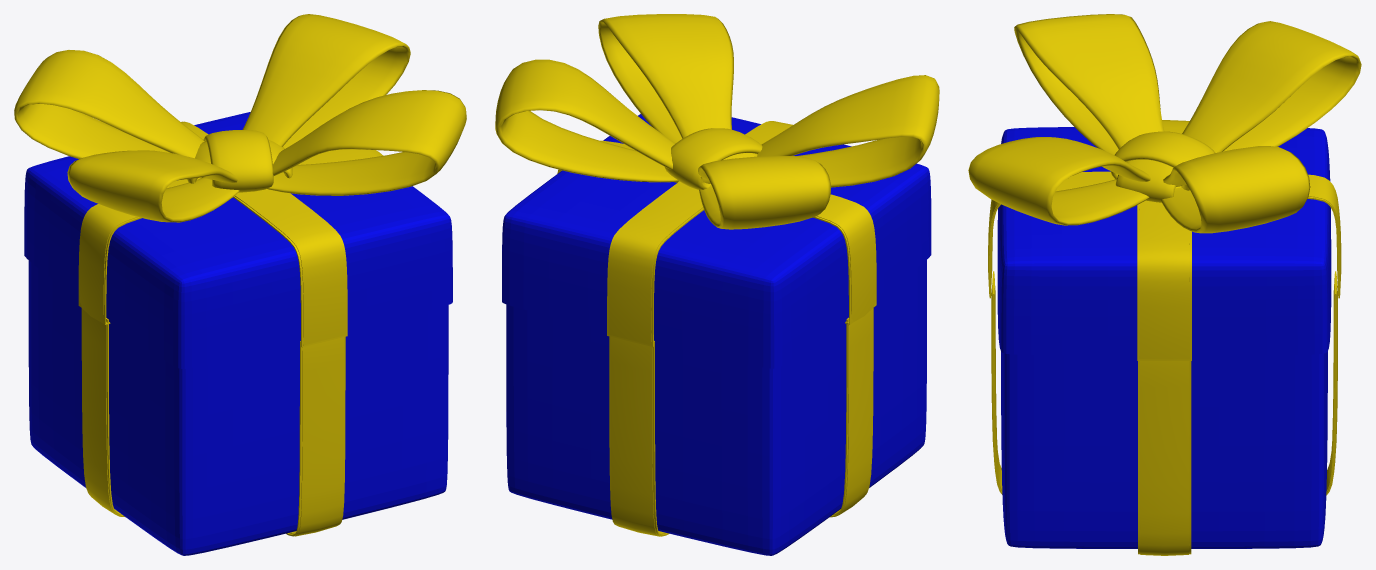
The model's file is regalo.fbx.
3 views of the same model, side by side, from view 1: azimuth 30°, elevation 25°; view 2: azimuth 150°, elevation 25°; view 3: azimuth 270°, elevation 25° (orthographic). The views are drawn at different scales.
Visible parts, largest first — view 1: Gift; view 2: Gift; view 3: Gift.
Boxes of the visible parts, x1,y1,x2,y2 form: Gift: (14, 14, 466, 555); Gift: (495, 14, 939, 555); Gift: (968, 14, 1361, 555).
Size of the model in its own units: 80.05 by 79.69 by 70.06.
